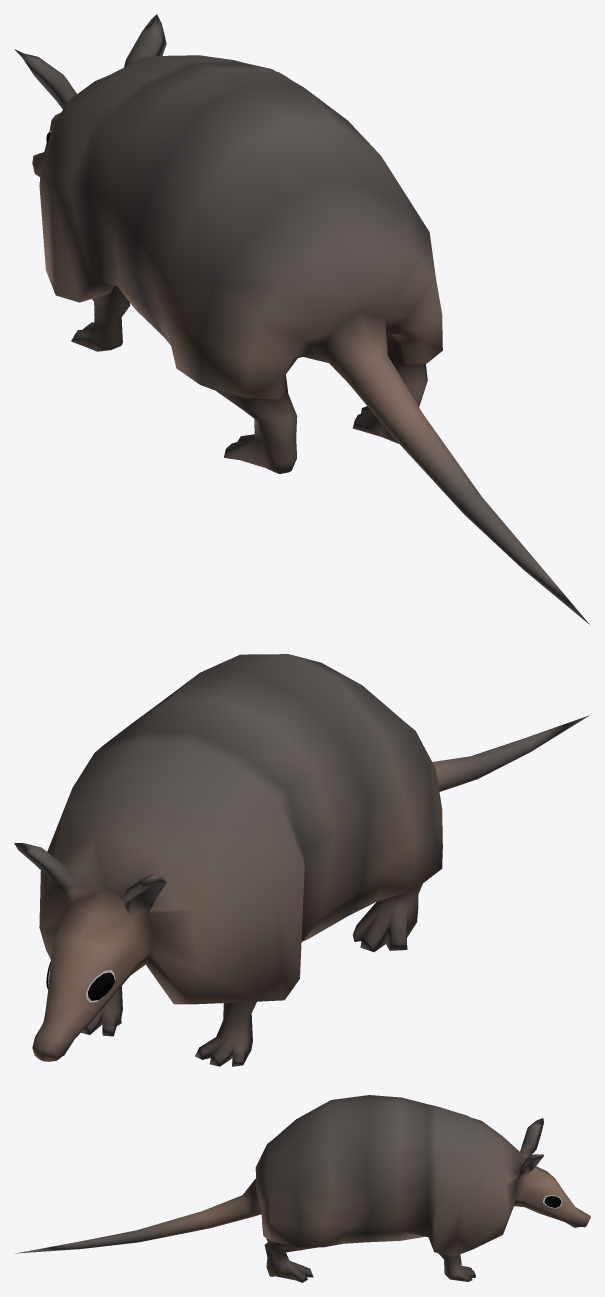
Rendered from Armadillo.min.glb.
The picture shows the model from 3 angles, top to bottom: view 1: azimuth 30°, elevation 25°; view 2: azimuth 150°, elevation 25°; view 3: azimuth 270°, elevation 25°; orthographic projection. The views are drawn at different scales.
Parts seen in each view (by area): view 1: Armadillo; view 2: Armadillo; view 3: Armadillo.
Boxes of the visible parts, x1=… form: Armadillo: x1=15, y1=14, x2=590, y2=625; Armadillo: x1=14, y1=654, x2=589, y2=1066; Armadillo: x1=15, y1=1095, x2=590, y2=1282.
Bounding box in the file's own units: 0.448 × 0.538 × 1.77.
